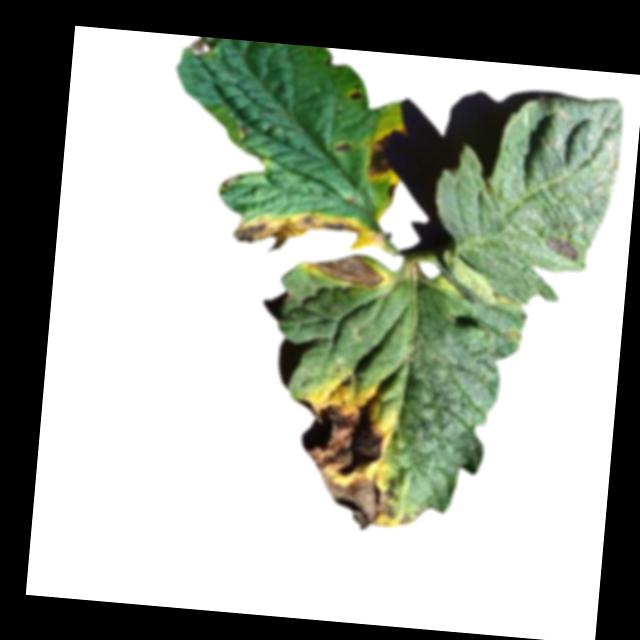Early_blight: (292, 391, 402, 531), (231, 202, 365, 260), (310, 255, 389, 289), (363, 140, 391, 178), (543, 235, 581, 259), (332, 139, 355, 153), (346, 86, 365, 99)
